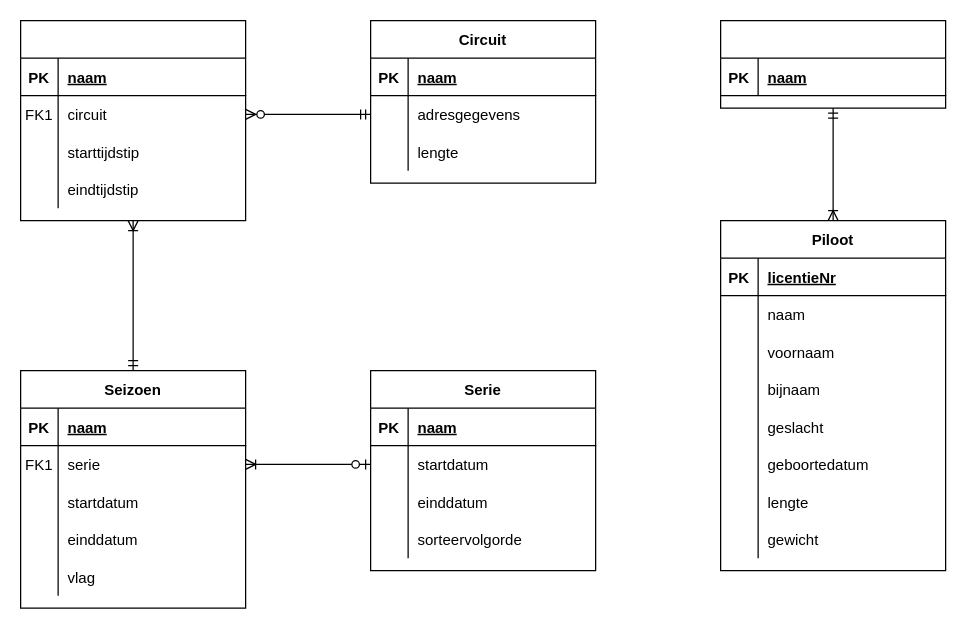
The diagram is 966 pixels wide and 629 high, and some of its shapes have lost their labels. Each missing label, with the box of its shape:
Race: (19, 19, 246, 221)
Team: (719, 19, 946, 108)
